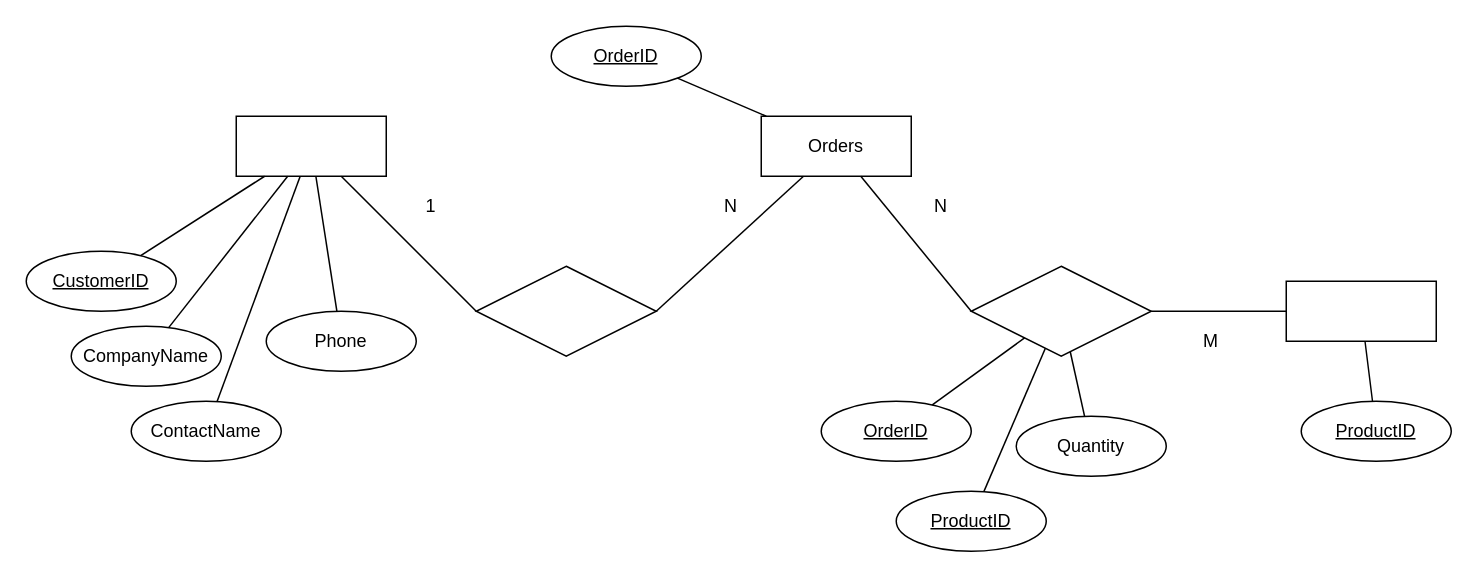
Some shapes in this 1478 by 578 pixel diagram are drawn without their labels. Each missing label, with the box of its shape:
bestellt: (475, 265, 656, 356)
Customers: (235, 115, 386, 176)
enthält: (970, 265, 1151, 356)
Products: (1285, 280, 1436, 341)
